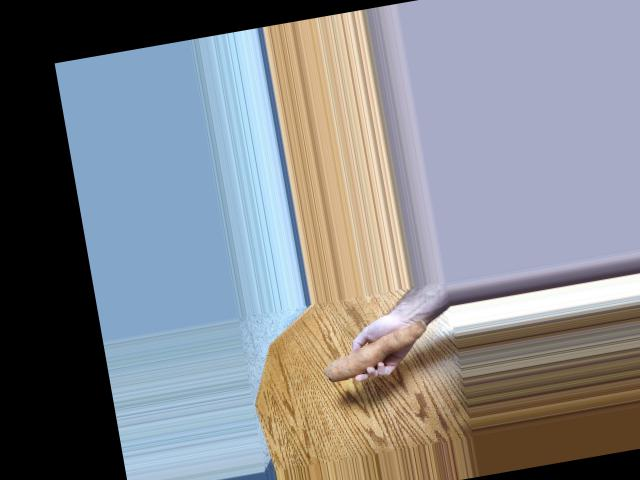sweet_potato: (304, 327, 421, 391)
